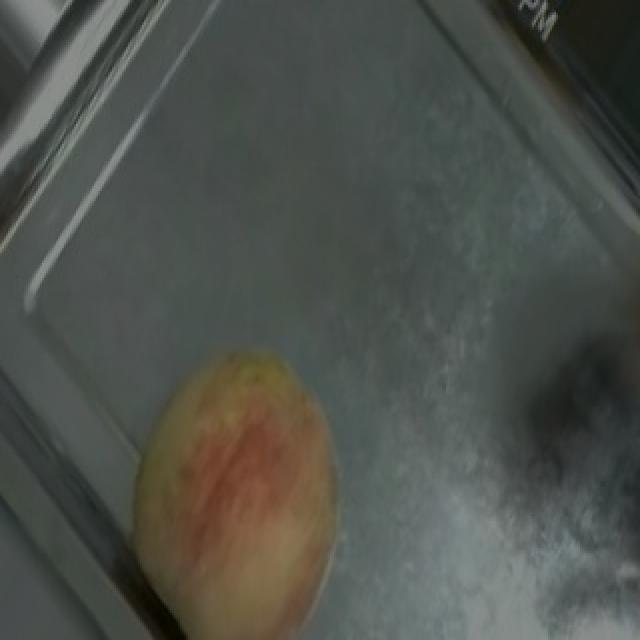Fruit: (88, 317, 378, 640)
